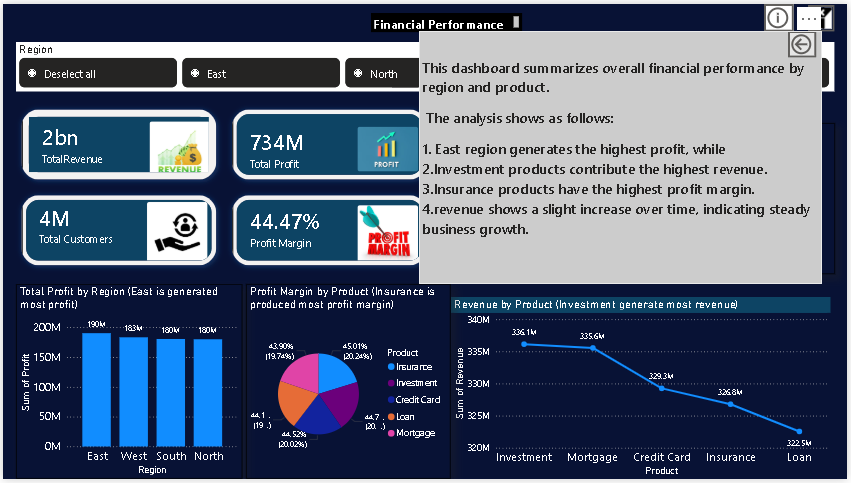

This screenshot's page, from the dashboard's own definition file:
{"tool":"powerbi","page":{"name":"Overview","canvas":[1280,720],"ordinal":0},"visuals":[{"type":"cardVisual","fields":{"Data":["Sum(financial_dataset_15000_rows.Revenue)","Sum(financial_dataset_15000_rows.Profit)","Sum(financial_dataset_15000_rows.Customers)","financial_dataset_15000_rows.Profit Margin"]},"box":[0,132.5,671,292.3],"z":0},{"type":"lineChart","title":"Revenue by Product  (Investment generate most revenue)","fields":{"Category":["financial_dataset_15000_rows.Product"],"Y":["Sum(financial_dataset_15000_rows.Revenue)"]},"box":[678.2,443.5,574.6,276.5],"z":1000},{"type":"barChart","title":"Total Revenue by Year (Revenue is slightly is increased over time)","fields":{"Y":["Sum(financial_dataset_15000_rows.Revenue)"],"Category":["financial_dataset_15000_rows.Date.Variation.Date Hierarchy.Year","financial_dataset_15000_rows.Date.Variation.Date Hierarchy.Quarter","financial_dataset_15000_rows.Date.Variation.Date Hierarchy.Month","financial_dataset_15000_rows.Date.Variation.Date Hierarchy.Day"]},"box":[672.5,180,587.5,229],"z":2000},{"type":"advancedSlicerVisual","fields":{"Values":["financial_dataset_15000_rows.Region"]},"box":[20.2,57.6,1239.8,74.9],"z":3000},{"type":"columnChart","title":"Total Profit by Region (East  is generated most profit)","fields":{"Category":["financial_dataset_15000_rows.Region"],"Y":["Sum(financial_dataset_15000_rows.Profit)"]},"box":[20.2,424.8,342.7,295.2],"z":4000},{"type":"pieChart","title":"Profit Margin by Product (Insurance is produced most profit margin)","fields":{"Y":["financial_dataset_15000_rows.Profit Margin"],"Category":["financial_dataset_15000_rows.Product"]},"box":[368.6,424.8,309.6,295.2],"z":5000},{"type":"textbox","box":[557.3,13,229,28.8],"z":6000},{"type":"actionButton","box":[1219.7,1.4,40.3,40.3],"z":7000},{"type":"actionButton","box":[1153.2,0,45.2,41.9],"z":8000}]}

Visuals, with their boxes in screenshot pixels (x1, y1, x2, y2), scaled from the page's 1280x720 canvas onto the 851x483 screenshot:
cardVisual - Sum(financial_dataset_15000_rows.Revenue) x Sum(financial_dataset_15000_rows.Profit): x1=0, y1=89, x2=446, y2=285
"Revenue by Product  (Investment generate most revenue)" lineChart: x1=451, y1=298, x2=833, y2=482
"Total Revenue by Year (Revenue is slightly is increased over time)" barChart: x1=447, y1=121, x2=838, y2=274
advancedSlicerVisual - financial_dataset_15000_rows.Region: x1=13, y1=39, x2=838, y2=89
"Total Profit by Region (East  is generated most profit)" columnChart: x1=13, y1=285, x2=241, y2=482
"Profit Margin by Product (Insurance is produced most profit margin)" pieChart: x1=245, y1=285, x2=451, y2=482
textbox: x1=371, y1=9, x2=523, y2=28
actionButton: x1=811, y1=1, x2=838, y2=28
actionButton: x1=767, y1=0, x2=797, y2=28
